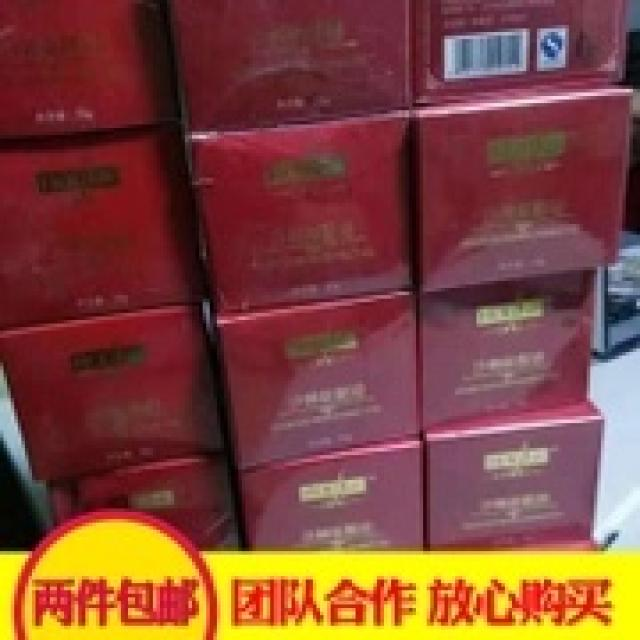box: (185, 107, 412, 313), (412, 85, 633, 292), (0, 302, 220, 480), (0, 132, 196, 327), (213, 288, 423, 469), (167, 0, 412, 128), (416, 267, 601, 430), (423, 398, 604, 551), (235, 434, 430, 551), (412, 0, 622, 103), (46, 459, 224, 548)
